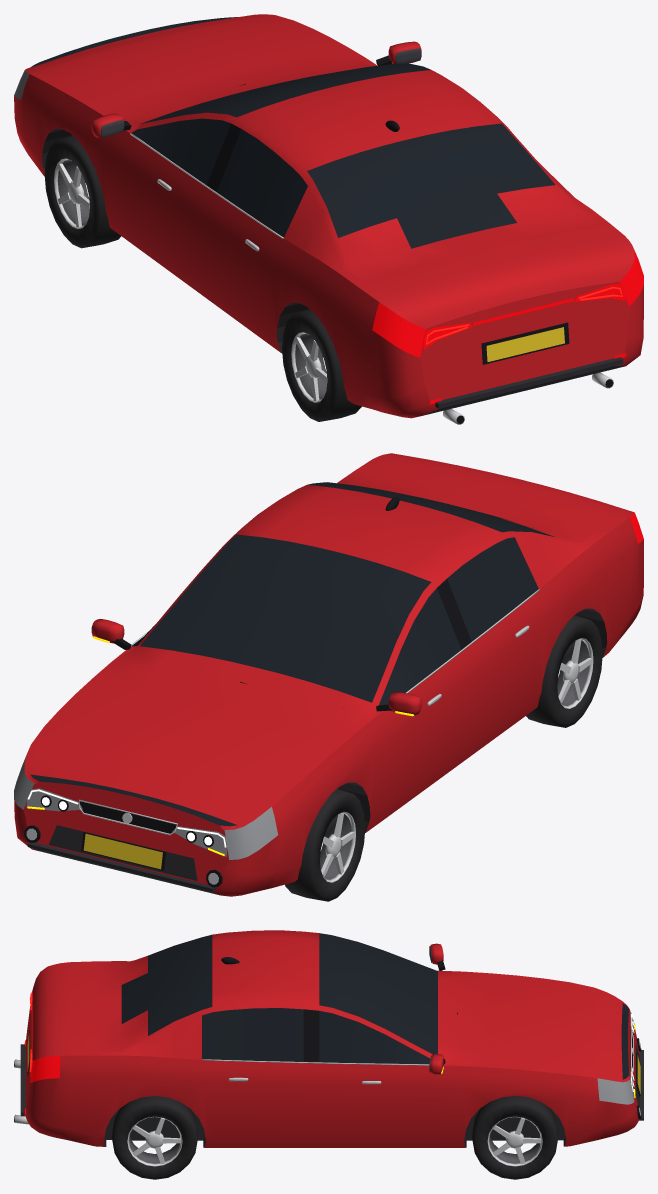
Rendered from car_lo.glb.
The picture shows the model from 3 angles, top to bottom: view 1: azimuth 30°, elevation 25°; view 2: azimuth 150°, elevation 25°; view 3: azimuth 270°, elevation 25°; orthographic projection. The views are drawn at different scales.
Parts seen in each view (by area): view 1: body.001, trim.001, wheel_rr.001, wheel_fr.001, decals.001; view 2: body.001, trim.001, wheel_fr.001, wheel_rr.001, decals.001; view 3: body.001, wheel_fl.001, wheel_rl.001, trim.001.
Part boxes in pixels (<box>): body.001: <box>14,14,643,418</box>; trim.001: <box>91,41,626,424</box>; wheel_rr.001: <box>282,309,361,421</box>; wheel_fr.001: <box>44,135,121,248</box>; decals.001: <box>486,327,564,361</box>; body.001: <box>14,453,643,896</box>; trim.001: <box>24,496,539,891</box>; wheel_fr.001: <box>285,789,365,901</box>; wheel_rr.001: <box>526,615,602,727</box>; decals.001: <box>83,833,162,869</box>; body.001: <box>25,930,639,1147</box>; wheel_fl.001: <box>472,1096,558,1179</box>; wheel_rl.001: <box>111,1096,198,1179</box>; trim.001: <box>14,943,643,1124</box>.
Bounding box in the file's own units: 2.19 × 1.47 × 4.83.
